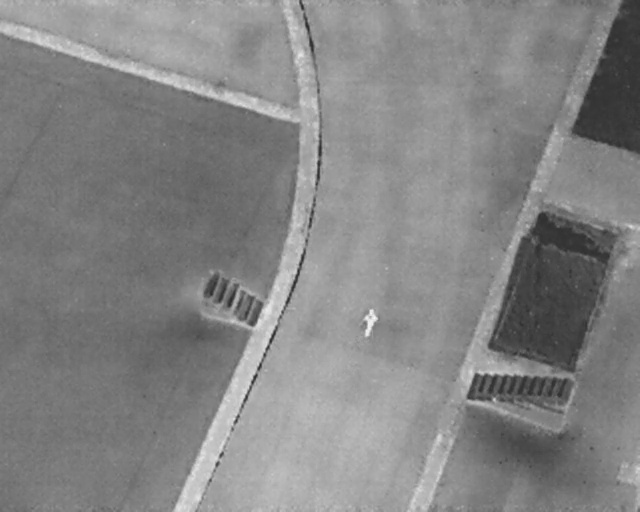Person: (358, 305, 381, 340)
